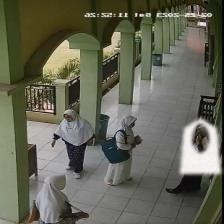Mukena: (179, 117, 221, 174)
